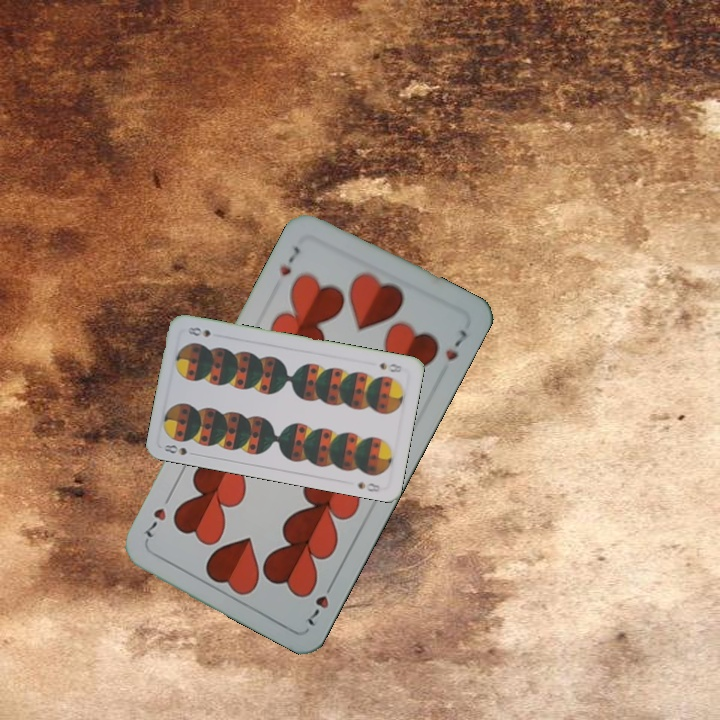H7: (303, 576, 338, 629), (275, 242, 303, 279)
S8: (160, 440, 200, 459), (375, 358, 405, 375)
